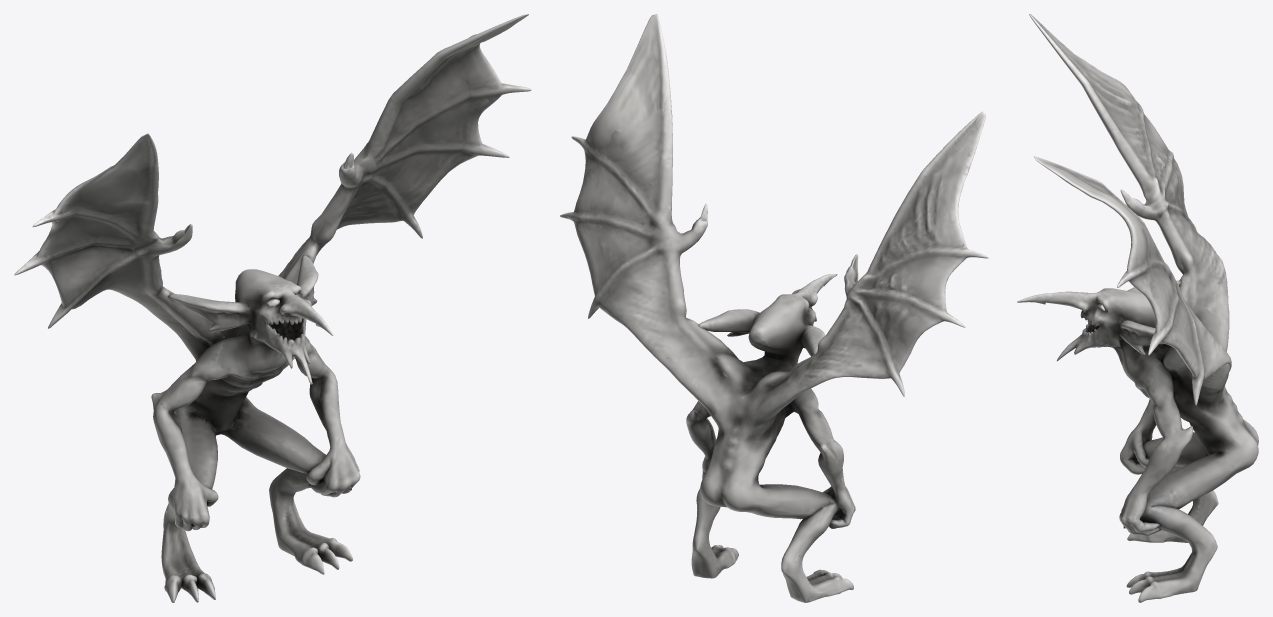
File: MZ4250 - Steam Mephit_2 2025.glb
3 views of the same model, side by side, from view 1: azimuth 30°, elevation 25°; view 2: azimuth 150°, elevation 25°; view 3: azimuth 270°, elevation 25° (orthographic). The views are drawn at different scales.
Visible parts, largest first — view 1: Cylinder.001; view 2: Cylinder.001; view 3: Cylinder.001.
Boxes of the visible parts, bbox=[...] form: Cylinder.001: bbox=[14, 14, 531, 602]; Cylinder.001: bbox=[560, 14, 988, 602]; Cylinder.001: bbox=[1017, 14, 1258, 602].
Bounding box in the file's own units: 97.43 × 106 × 46.87.
Materials: 1 (1 with a texture image).
